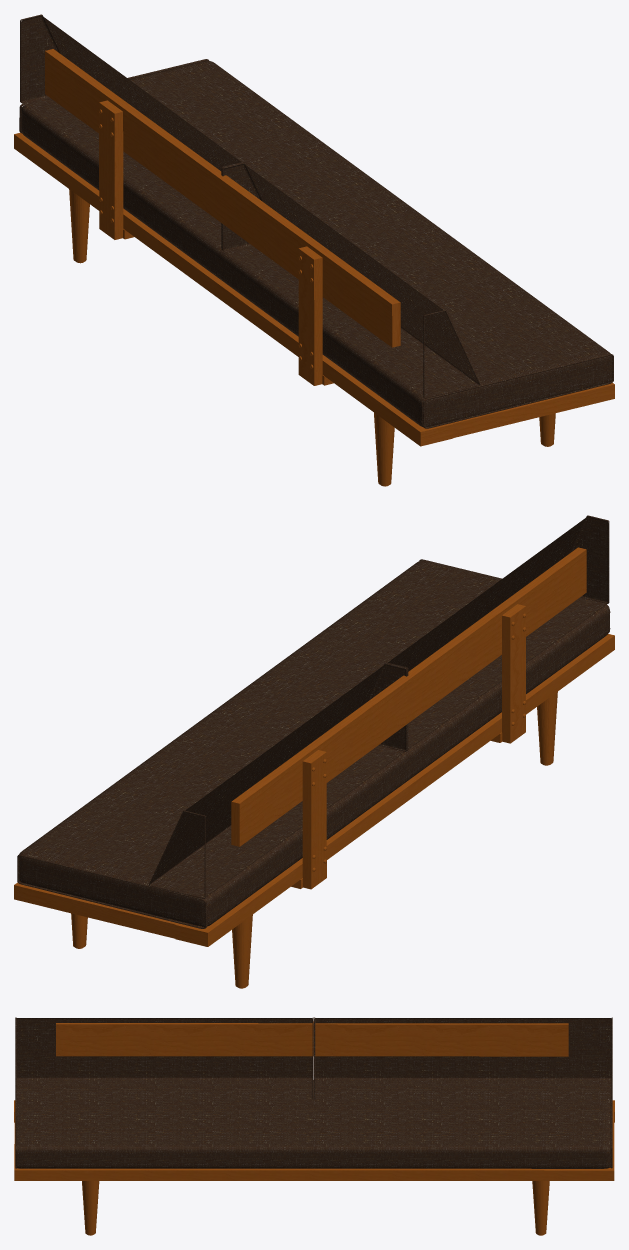
3 renders of one model, top to bottom at view 1: azimuth 30°, elevation 25°; view 2: azimuth 150°, elevation 25°; view 3: azimuth 270°, elevation 25°, orthographic. The views are drawn at different scales.
Visible parts, largest first — view 1: Cylinder.005, Cylinder.068; view 2: Cylinder.005, Cylinder.068; view 3: Cylinder.005, Cylinder.068.
Boxes of the visible parts, x1,y1,x2,y2 form: Cylinder.005: [19, 14, 613, 428]; Cylinder.068: [14, 49, 614, 486]; Cylinder.005: [17, 515, 610, 928]; Cylinder.068: [14, 547, 614, 988]; Cylinder.005: [15, 1017, 612, 1168]; Cylinder.068: [14, 1021, 614, 1235].
Size of the model in its own units: 0.8029 by 0.7788 by 2.75.
2 materials, 2 textured.
